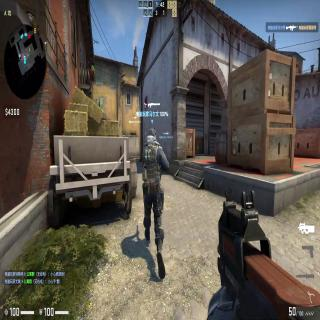CT-Body: (141, 127, 169, 282)
CT-Head: (147, 129, 157, 141)
